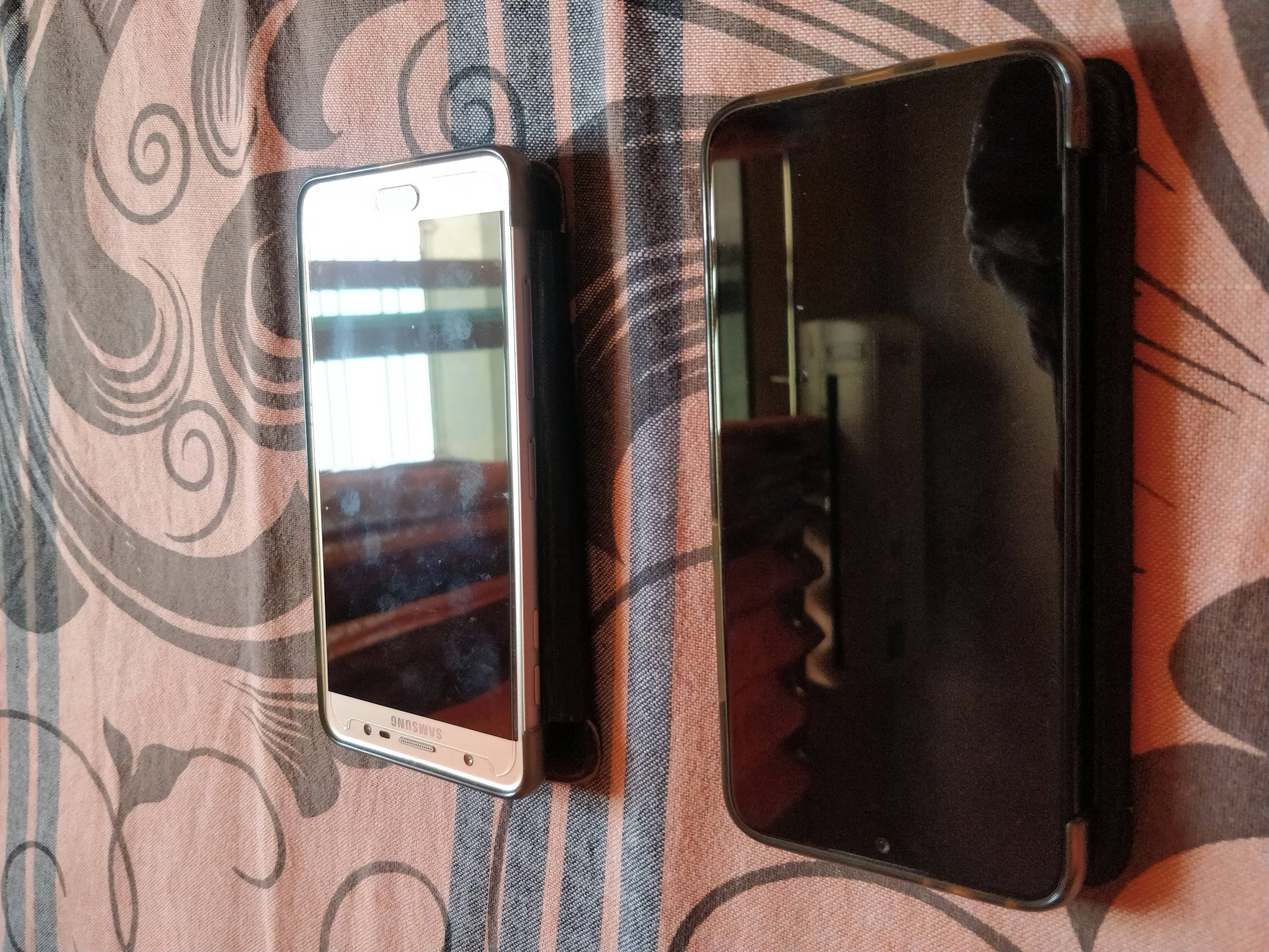Electronics: (677, 20, 1156, 927), (273, 123, 618, 843)
